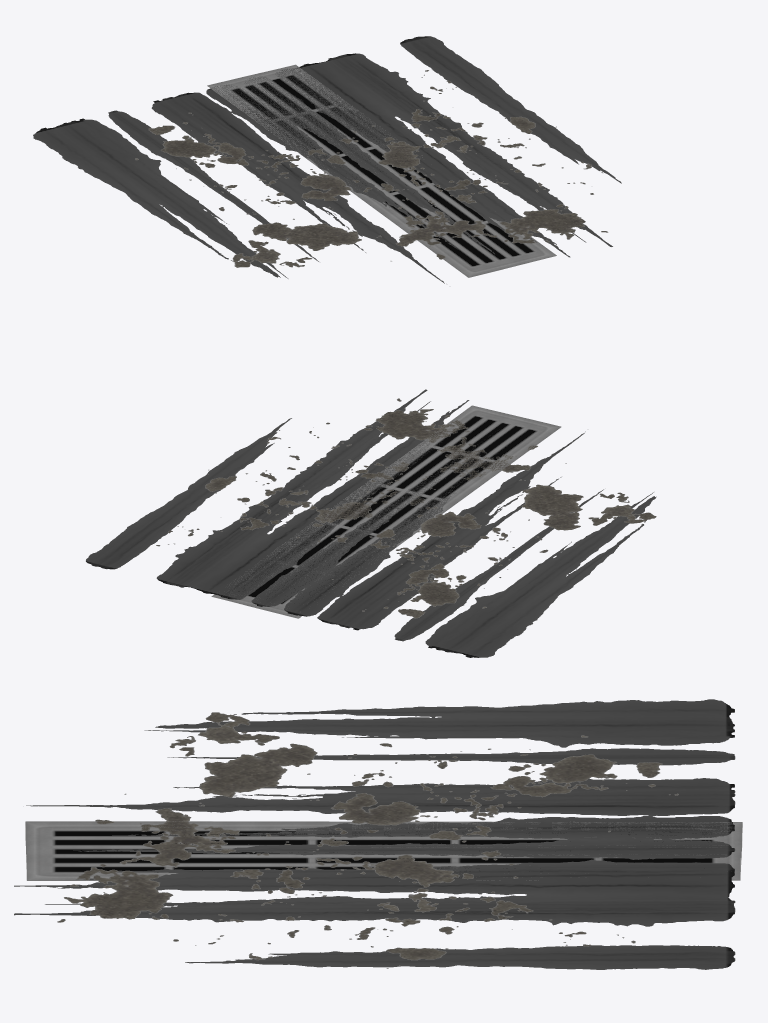
File: DecalMeshes.fbx
3 views of the same model, one above another, from view 1: azimuth 30°, elevation 25°; view 2: azimuth 150°, elevation 25°; view 3: azimuth 270°, elevation 25° (orthographic). The views are drawn at different scales.
Parts seen in each view (by area): view 1: Decal_02, Decal_03, Decal_01; view 2: Decal_02, Decal_03, Decal_01; view 3: Decal_02, Decal_01, Decal_03.
Boxes of the visible parts, x1,y1,x2,y2 form: Decal_02: [33, 36, 621, 283]; Decal_03: [207, 64, 556, 277]; Decal_01: [135, 70, 608, 267]; Decal_02: [86, 389, 656, 657]; Decal_03: [211, 405, 561, 618]; Decal_01: [156, 398, 656, 618]; Decal_02: [14, 699, 735, 969]; Decal_01: [57, 712, 678, 968]; Decal_03: [25, 821, 742, 880].
Bounding box in the file's own units: 200 × 0 × 200.
